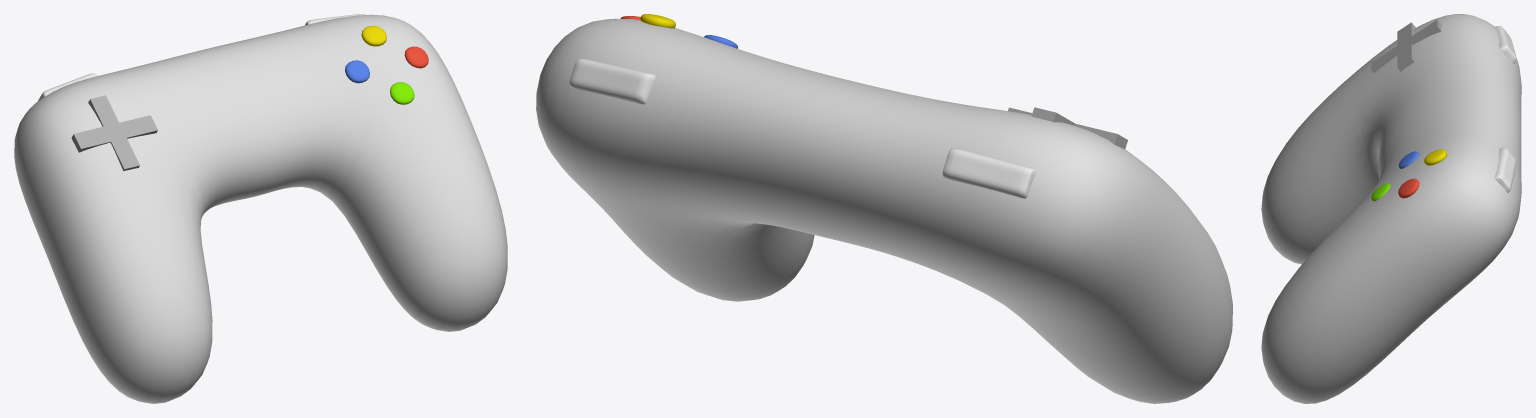
File: esport.glb
3 views of the same model, side by side, from view 1: azimuth 30°, elevation 25°; view 2: azimuth 150°, elevation 25°; view 3: azimuth 270°, elevation 25° (orthographic). The views are drawn at different scales.
Parts seen in each view (by area): view 1: Cube, Cube.002, Cube.006, Cube.004, Cube.001; view 2: Cube, Cube.001, Cube.002; view 3: Cube, Cube.002, Cube.001, Cube.005, Cube.003.
Boxes of the visible parts, x1,y1,x2,y2 form: Cube: [14, 14, 507, 403]; Cube.002: [71, 95, 157, 170]; Cube.006: [345, 60, 369, 83]; Cube.004: [390, 82, 414, 104]; Cube.001: [38, 14, 365, 100]; Cube: [536, 18, 1232, 403]; Cube.001: [569, 58, 1035, 198]; Cube.002: [1008, 107, 1127, 149]; Cube: [1261, 14, 1521, 403]; Cube.002: [1371, 19, 1441, 72]; Cube.001: [1494, 26, 1516, 192]; Cube.005: [1398, 178, 1419, 198]; Cube.003: [1424, 149, 1447, 165].
Size of the model in its own units: 1.75 by 1 by 0.9757.
